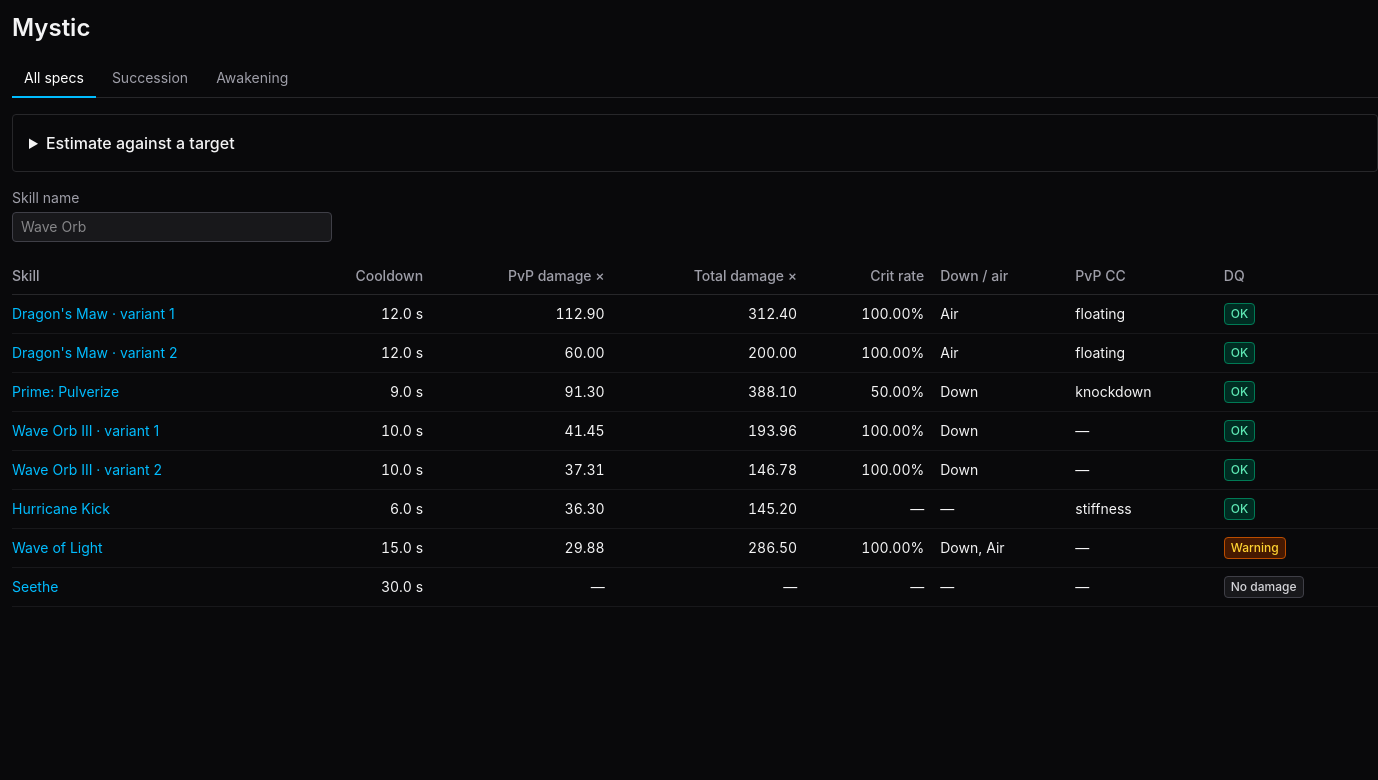
Test case: ClassSkillsPage › keeps the name filter when switching spec tab
Expected: the table is shown, [12,258,1377,607]
In the search field labelled "Skill name": (172, 227) [12,212,332,242], type "wave"
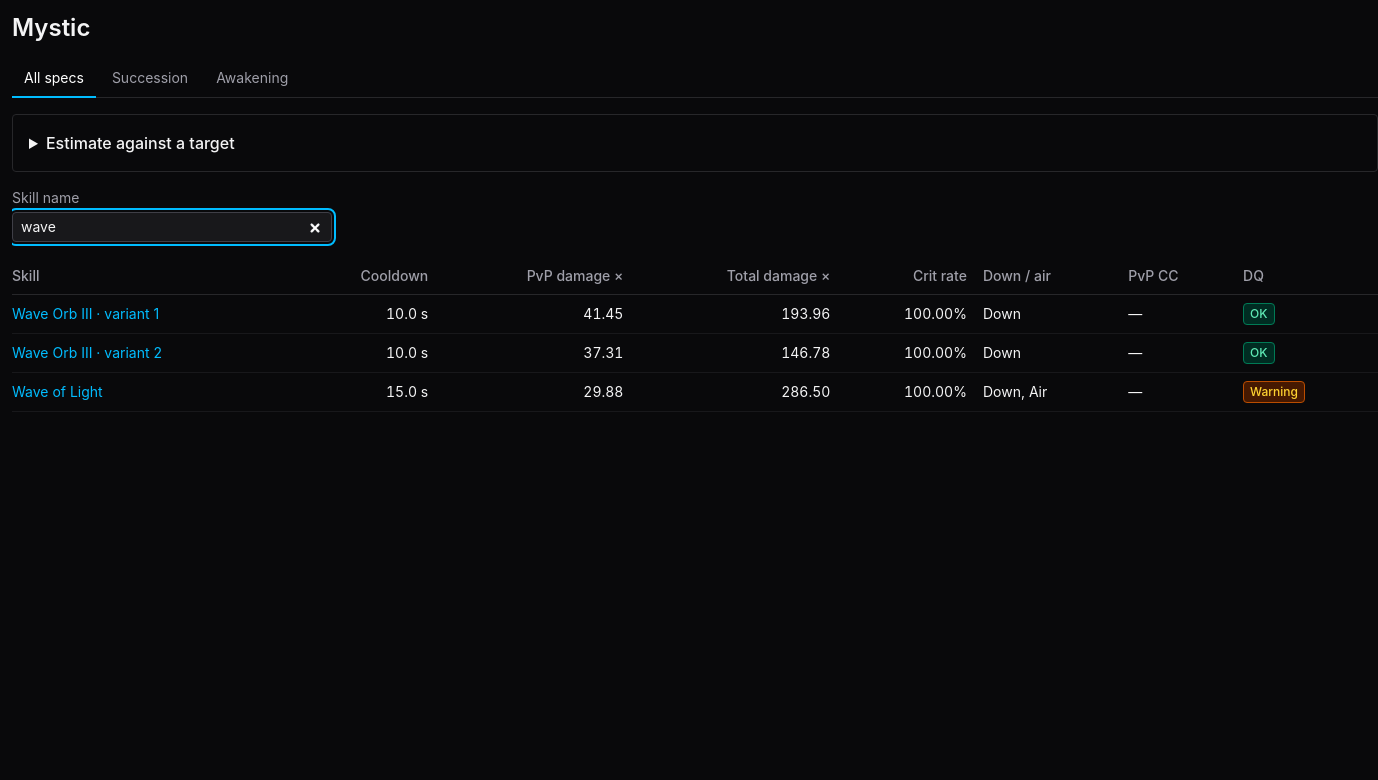
Click the link "Succession": (150, 78) [112,69,188,86]
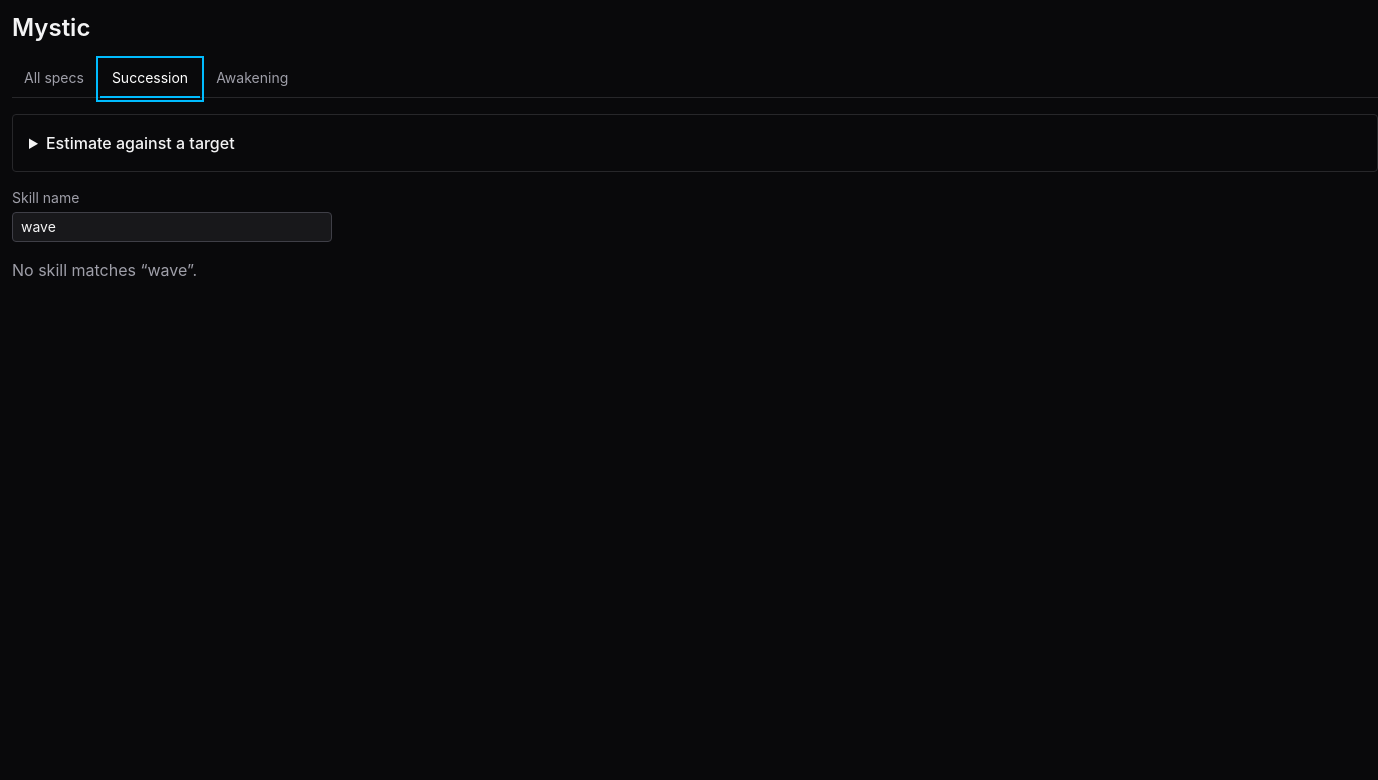
Result: the text "No skill matches “wave”." is shown at [12,260,197,280]
